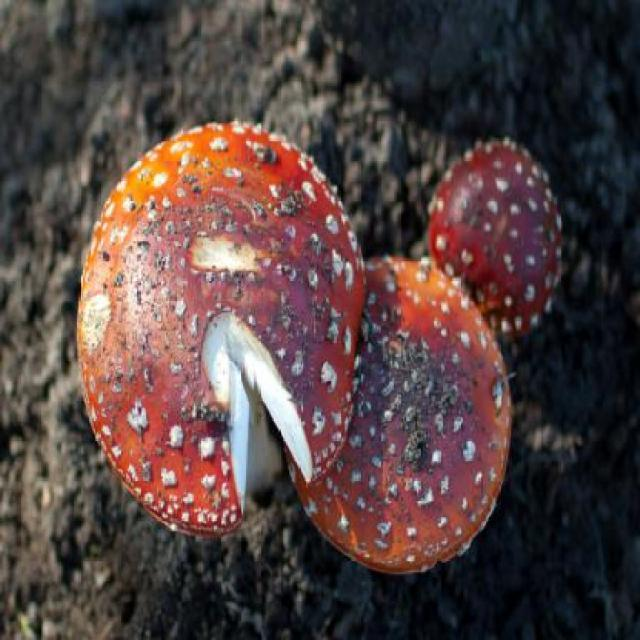Mushroom: (73, 110, 370, 536), (282, 250, 513, 578), (424, 131, 564, 340)
